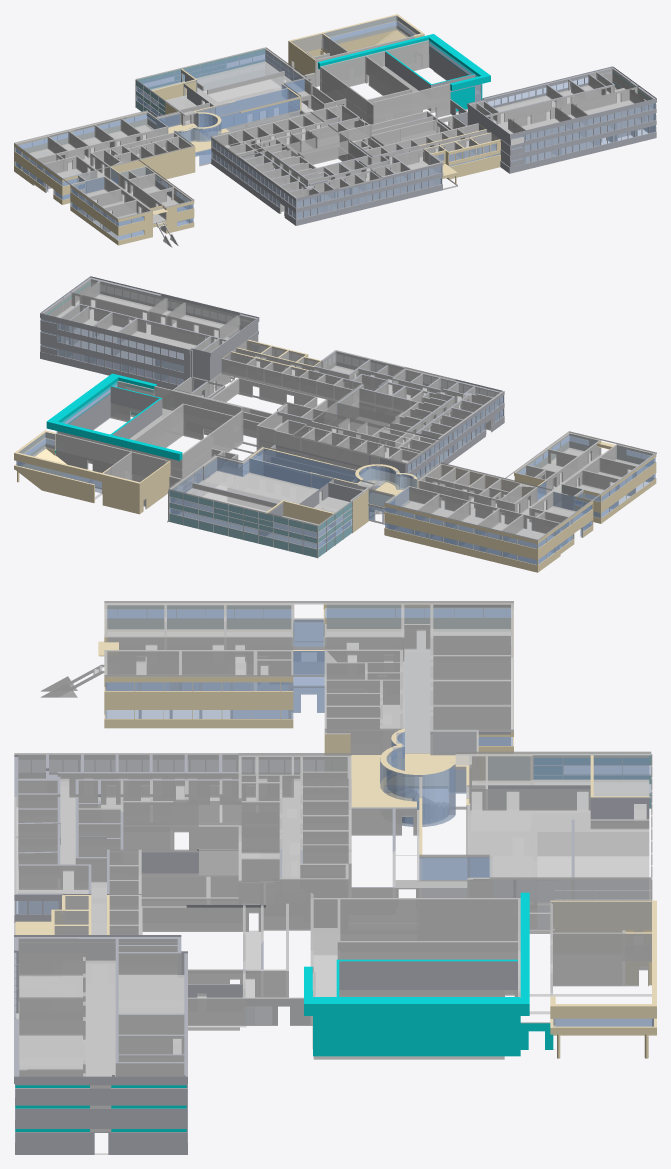
The picture shows the model from 3 angles, top to bottom: view 1: azimuth 30°, elevation 25°; view 2: azimuth 150°, elevation 25°; view 3: azimuth 270°, elevation 25°; orthographic projection. The views are drawn at different scales.
Parts seen in each view (by area): view 1: Node3848, Node971, Node7007, Node3859, Node3822, Node3393, Node2504, Node6272, Node4325, Node5831, Node5185, Node3402 (+61 smaller); view 2: Node5234, Node6706, Node3822, Node4679, Node3848, Node3393, Node3276, Node4684, Node2461, Node4325, Node5185, Node5365 (+58 smaller); view 3: Node3848, Node5533, Node5480, Node3822, Node4407, Node8060, Node3393, Node7060, Node8338, Node7501, Node2383, Node5365 (+123 smaller).
Part boxes in pixels (left/top/right/bottom): Node3848: left=139, top=61, right=291, bottom=109; Node971: left=111, top=146, right=195, bottom=180; Node7007: left=118, top=201, right=194, bottom=245; Node3859: left=139, top=50, right=265, bottom=89; Node3822: left=23, top=125, right=165, bottom=225; Node3393: left=211, top=83, right=302, bottom=115; Node2504: left=374, top=87, right=446, bottom=118; Node6272: left=509, top=132, right=656, bottom=173; Node4325: left=508, top=87, right=636, bottom=128; Node5831: left=296, top=184, right=442, bottom=225; Node5185: left=14, top=144, right=62, bottom=204; Node3402: left=486, top=85, right=613, bottom=124; Node5234: left=384, top=503, right=537, bottom=572; Node6706: left=40, top=318, right=189, bottom=385; Node3822: left=395, top=454, right=647, bottom=548; Node4679: left=15, top=453, right=139, bottom=514; Node3848: left=173, top=479, right=342, bottom=537; Node3393: left=205, top=471, right=321, bottom=502; Node3276: left=221, top=359, right=327, bottom=397; Node4684: left=15, top=466, right=93, bottom=502; Node2461: left=276, top=431, right=369, bottom=466; Node4325: left=71, top=293, right=219, bottom=338; Node5185: left=538, top=501, right=593, bottom=572; Node5365: left=601, top=455, right=656, bottom=523; Node3848: left=533, top=779, right=649, bottom=877; Node5533: left=313, top=1016, right=520, bottom=1056; Node5480: left=104, top=677, right=293, bottom=728; Node3822: left=102, top=629, right=510, bottom=753; Node4407: left=339, top=961, right=517, bottom=989; Node8060: left=340, top=899, right=517, bottom=927; Node3393: left=470, top=810, right=533, bottom=877; Node7060: left=553, top=933, right=625, bottom=986; Node8338: left=60, top=797, right=300, bottom=934; Node7501: left=351, top=753, right=468, bottom=807; Node2383: left=85, top=960, right=115, bottom=1076; Node5365: left=105, top=605, right=294, bottom=649.
Size of the model in its own units: 4837 by 355 by 2644.
